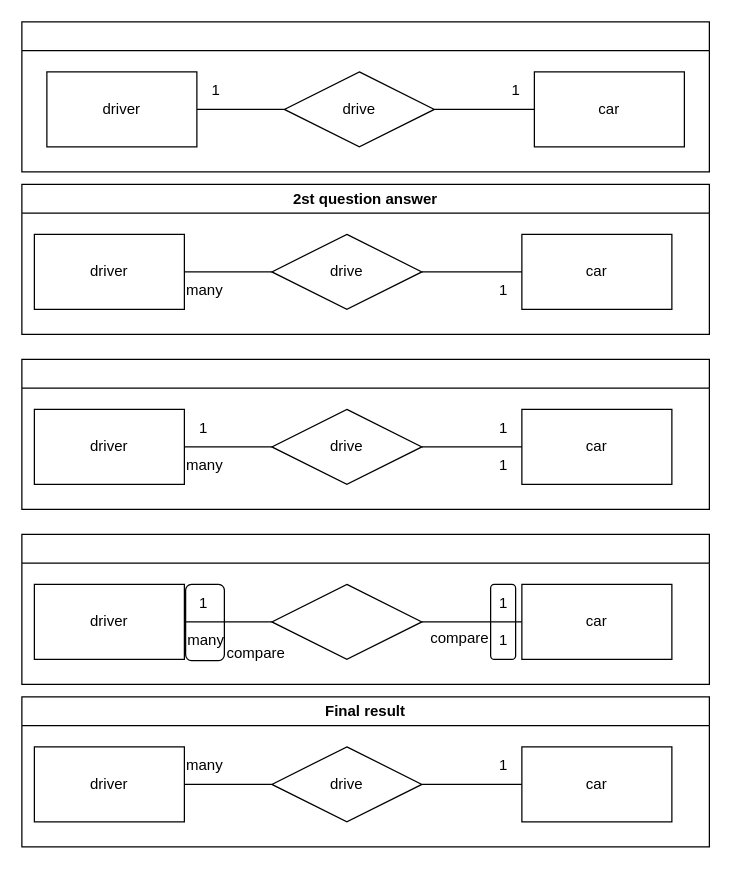
The diagram is 731 pixels wide and 869 high, and some of its shapes have lost their labels. The box of each missing label's shape, as (x1, y1, x2, y2) in pixels:
1st question answer: (21, 21, 709, 172)
has: (271, 583, 422, 659)
mix the answers: (21, 358, 709, 509)
mix the answers and compare: (21, 533, 709, 684)
